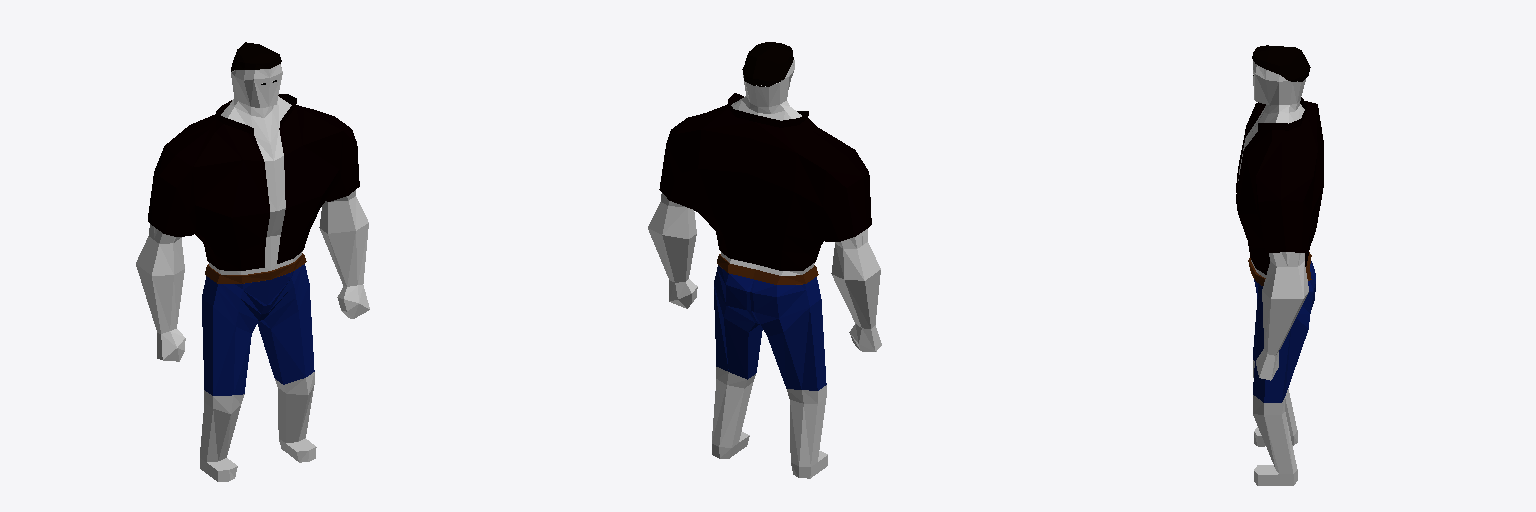
Rendered from human.obj.
3 renders of one model, left to right at view 1: azimuth 30°, elevation 25°; view 2: azimuth 150°, elevation 25°; view 3: azimuth 270°, elevation 25°, orthographic.
Parts seen in each view (by area): view 1: Cylinder_Cylinder.001, Cylinder.001_Cylinder.002; view 2: Cylinder_Cylinder.001, Cylinder.001_Cylinder.002; view 3: Cylinder_Cylinder.001, Cylinder.001_Cylinder.002.
Boxes of the visible parts, box(x1,y1,x2,y2) form: Cylinder_Cylinder.001: box(136, 42, 369, 481); Cylinder.001_Cylinder.002: box(148, 94, 359, 270); Cylinder_Cylinder.001: box(648, 42, 881, 478); Cylinder.001_Cylinder.002: box(659, 93, 871, 270); Cylinder_Cylinder.001: box(1238, 45, 1315, 485); Cylinder.001_Cylinder.002: box(1236, 97, 1323, 274).
Size of the model in its own units: 2.08 by 3.78 by 0.7354.